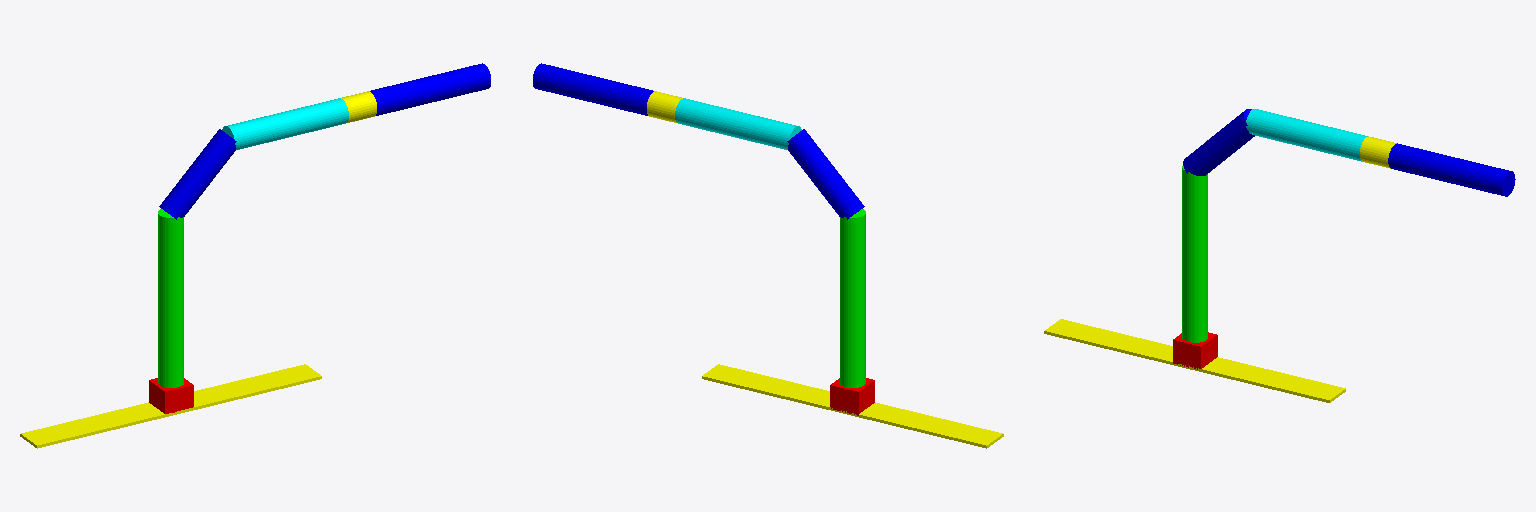
URDF robot description (simple_robot):
<robot name="simple_robot"> <!-- robot name- you decide -->
<!-- sequence : link-joint-link-joint-...-link... -->
<!-- units: meters for distance,rad in case of angles -->
<!-- first link called base_link -->
<link name= "base_link">
	<visual>
		<geometry>
        	<box size="1.0 0.1 0.01"/>
      	</geometry>
		<origin rpy="0 0 0" xyz="0 0 0"/> <!-- rpy: roll pitch yaw -> orientation xyz -> position --> 
		<material name= "base_color">
			<color rgba="1 1 0 1"/> 
		</material>
	</visual>

</link>
<!-- first joint-->
<joint name="joint1" type= "prismatic"> <!-- types: revolute and prismatic -->
	<parent link="base_link"/>
	<child link="link1"/>
	<origin xyz ="0 0 0"/>
	<axis xyz="1 0 0"/>
	<limit effort="300" velocity="0.1" lower="-0.5" upper="0.5"/>
	<dynamics damping="50" friction="1"/>

</joint>
<!-- link1-->
<link name= "link1">
	<visual>
		<geometry>
        	<box size="0.1 0.1 0.08"/>
      	</geometry>
		<origin rpy="0 0 0" xyz="0 0 0.04"/> <!-- rpy: roll pitch yaw -> orientation xyz -> position --> 
		<material name= "link1_color">
			<color rgba="1 0 0 1"/> 
		</material>
	</visual>

</link>

<!-- second joint-->
<joint name="joint2" type= "revolute"> <!-- types: revolute and prismatic -->
	<parent link="link1"/>
	<child link="link2"/>
	<origin xyz ="0 0 0.05"/>
	<axis xyz="0 0 1"/>
	<limit effort="300" velocity="0.1" lower="-3.14159" upper="3.14159"/>
	<dynamics damping="50" friction="1"/>

</joint>

<!-- link2-->
<link name= "link2">
	<visual>
		<geometry>
			<cylinder length="0.6" radius="0.04"/>
		</geometry>
		<origin rpy="0 0 0" xyz="0 0 0.3"/> <!-- rpy: roll pitch yaw -> orientation xyz -> position --> 
		<material name= "link2_color">
			<color rgba="0 1 0 1"/> 
		</material>
	</visual>

</link>

<!-- third joint-->
<joint name="joint3" type= "revolute"> <!-- types: revolute and prismatic -->
	<parent link="link2"/>
	<child link="link3"/>
	<origin xyz ="0 0 0.6"/>
	<axis xyz="0 -1 0"/>
	<limit effort="300" velocity="0.1" lower="-3.14159" upper="3.14159"/>
	<dynamics damping="50" friction="1"/>

</joint>

<!-- link3-->
<link name= "link3">
	<visual>
		<geometry>
			<cylinder length="0.30" radius="0.04"/>
		</geometry>
		<origin rpy="0 0.7854 0" xyz="0.10 0 0.10"/> <!-- rpy: roll pitch yaw -> orientation xyz -> position --> 
		<material name= "link3_color">
			<color rgba="0 0 1 1"/> 
		</material>
	</visual>

</link>

<!-- fourth joint-->
<joint name="joint4" type= "revolute"> <!-- types: revolute and prismatic -->
	<parent link="link3"/>
	<child link="link4"/>
	<origin xyz ="0.2 0 0.2"/>
	<axis xyz="-1 0 0"/>
	<limit effort="300" velocity="0.1" lower="-3.14159" upper="3.14159"/>
	<dynamics damping="50" friction="1"/>

</joint>

<!-- link4-->
<link name= "link4">
	<visual>
		<geometry>
			<cylinder length="0.4" radius="0.04"/>
		</geometry>
		<origin rpy="0 1.5707 0" xyz="0.2 0 0"/> <!-- rpy: roll pitch yaw -> orientation xyz -> position --> 
		<material name= "link4_color">
			<color rgba="0 1 1 1"/> 
		</material>
	</visual>

</link>

<!-- fifth joint-->
<joint name="joint5" type= "revolute"> <!-- types: revolute and prismatic -->
	<parent link="link4"/>
	<child link="link5"/>
	<origin xyz ="0.4 0 0"/>
	<axis xyz="0 1 0"/>
	<limit effort="300" velocity="0.1" lower="-3.14159" upper="3.14159"/>
	<dynamics damping="50" friction="1"/>

</joint>

<!-- link5 -->
<link name= "link5">
	<visual>
		<geometry>
			<cylinder length="0.1" radius="0.04"/>
		</geometry>
		<origin rpy="0 1.5707 0" xyz="0.05 0 0"/> <!-- rpy: roll pitch yaw -> orientation xyz -> position --> 
		<material name= "link5_color">
			<color rgba="1 1 0 1"/> 
		</material>
	</visual>

</link>

<!-- sixth joint-->
<joint name="joint6" type= "revolute"> <!-- types: revolute and prismatic -->
	<parent link="link5"/>
	<child link="link6"/>
	<origin xyz ="0.1 0 0"/>
	<axis xyz="0 -1 0"/>
	<limit effort="300" velocity="0.1" lower="-3.14159" upper="3.14159"/>
	<dynamics damping="50" friction="1"/>

</joint>

<!-- link6 -->
<link name= "link6">
	<visual>
		<geometry>
			<cylinder length="0.4" radius="0.04"/>
		</geometry>
		<origin rpy="0 1.5707 0" xyz="0.2 0 0"/> <!-- rpy: roll pitch yaw -> orientation xyz -> position --> 
		<material name= "link6_color">
			<color rgba="0 0 1 1"/> 
		</material>
	</visual>

</link>


<!-- link extra-->
<joint name="joint7" type="fixed">
	<parent link="link6"/>
	<child link="link7"/>
	<origin xyz="0.2 0 0"/>
	<axis xyz="1 0 0"/>
	<limit effort="300" velocity="0.1" lower="-3.14159" upper="3.14159"/>
    <dynamics damping="50" friction="1"/>
</joint>
  
<link name="link7">
	<visual>
		<geometry>
			<cylinder length="0.0" radius="0.0"/>
		</geometry>
		<origin rpy="0 0 0" xyz="0 0 0"/> <!-- rpy: roll pitch yaw -> orientation xyz -> position --> 
        <material name= "link7_color">
            <color rgba="1 1 1 1"/> 
        </material>
	</visual>
</link>


</robot>

--- Facts derived from the render (not from the file) ---
Views: 3 orthographic renders of the robot side by side, from view 1: azimuth 30°, elevation 25°; view 2: azimuth 150°, elevation 25°; view 3: azimuth 330°, elevation 25°.
Robot: simple_robot — 8 links, 7 joints (5 revolute, 1 prismatic, 1 fixed); root link base_link; default pose: all joints at 0.
Links seen in each view (by area): view 1: base_link, link2, link4, link6, link3, link1, link5; view 2: base_link, link2, link4, link6, link3, link1, link5; view 3: base_link, link2, link6, link4, link3, link1, link5.
Boxes of the visible links, x1,y1,x2,y2 form: base_link: [20, 364, 321, 448]; link2: [158, 209, 183, 387]; link4: [222, 98, 348, 149]; link6: [370, 63, 490, 115]; link3: [159, 129, 236, 219]; link1: [149, 378, 193, 413]; link5: [341, 91, 376, 122]; base_link: [702, 364, 1003, 448]; link2: [840, 209, 865, 387]; link4: [675, 98, 801, 149]; link6: [533, 63, 653, 115]; link3: [787, 129, 864, 219]; link1: [830, 378, 874, 415]; link5: [647, 91, 682, 122]; base_link: [1044, 319, 1345, 402]; link2: [1182, 166, 1207, 342]; link6: [1388, 143, 1515, 196]; link4: [1246, 109, 1367, 161]; link3: [1183, 109, 1254, 175]; link1: [1173, 332, 1217, 369]; link5: [1360, 136, 1396, 168].
Bounding box of the posed robot: 1.6 × 0.1 × 0.895 m (x, y, z).
Geometry: primitives only (box / cylinder / sphere), no mesh files.